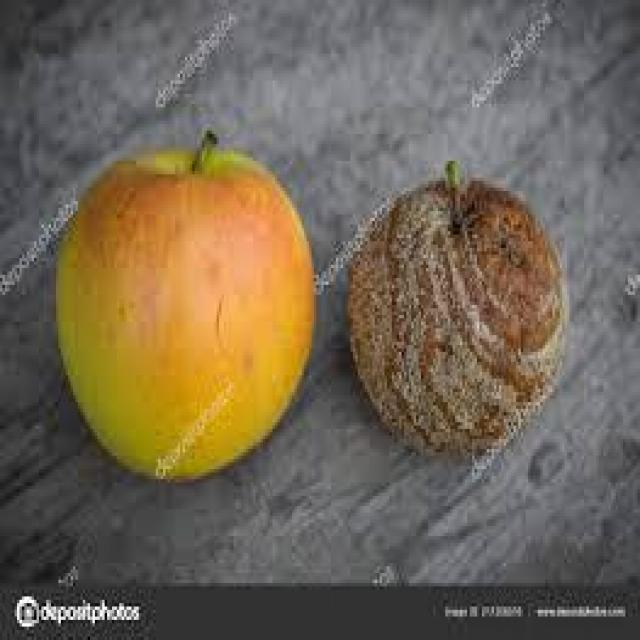Fresh Apple: (49, 132, 331, 488)
Rotten: (344, 162, 578, 458)
